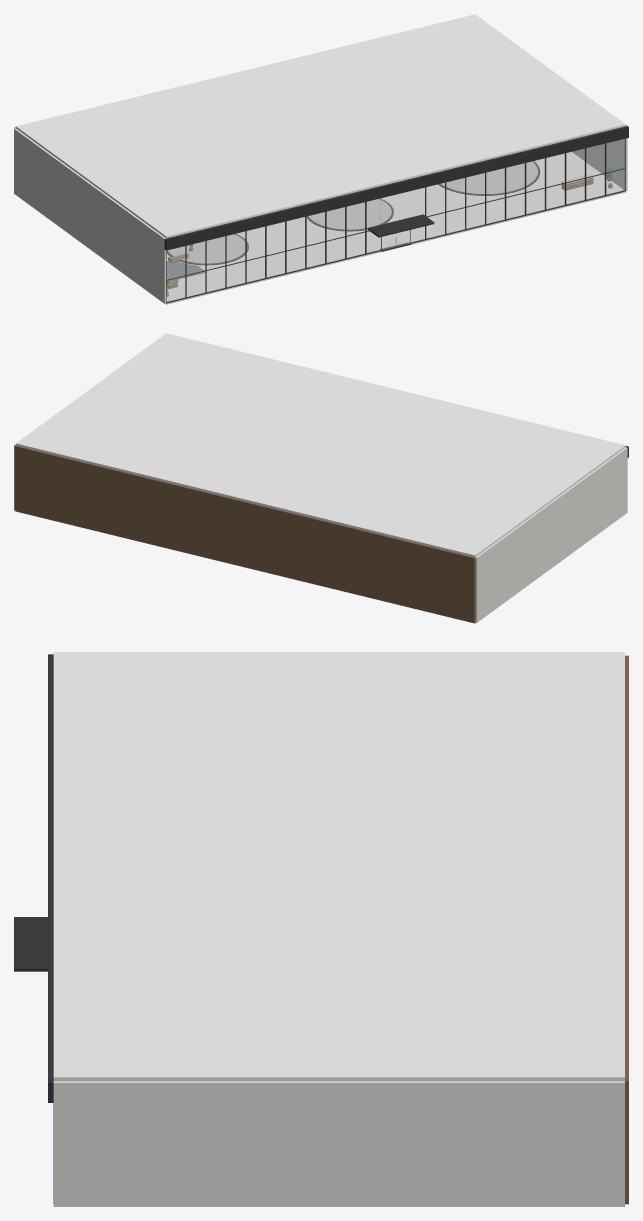
The model's file is aviation.glb.
3 renders of one model, top to bottom at view 1: azimuth 30°, elevation 25°; view 2: azimuth 150°, elevation 25°; view 3: azimuth 270°, elevation 25°, orthographic. The views are drawn at different scales.
Visible parts, largest first — view 1: Venue; view 2: Venue; view 3: Venue.
Part boxes in pixels (bbox=[...]): Venue: bbox=[14, 14, 628, 304]; Venue: bbox=[14, 333, 628, 623]; Venue: bbox=[14, 652, 628, 1206].
Size of the model in its own units: 74.6 by 10.5 by 45.21.
